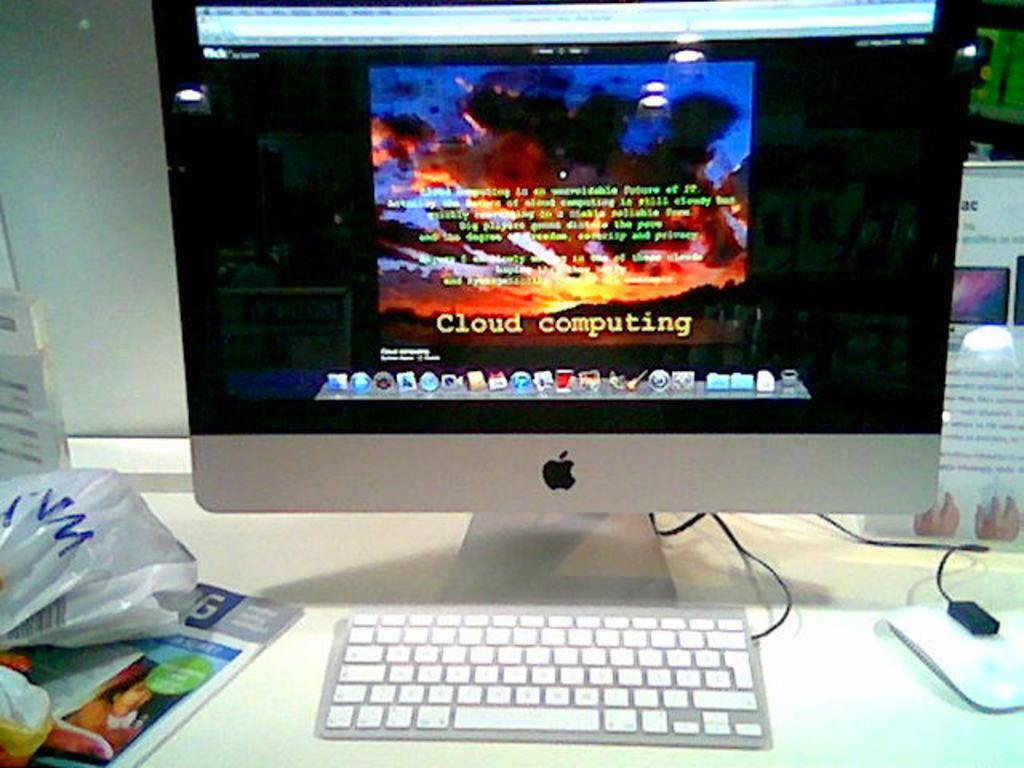Computer-keyboard: (314, 611, 773, 739)
